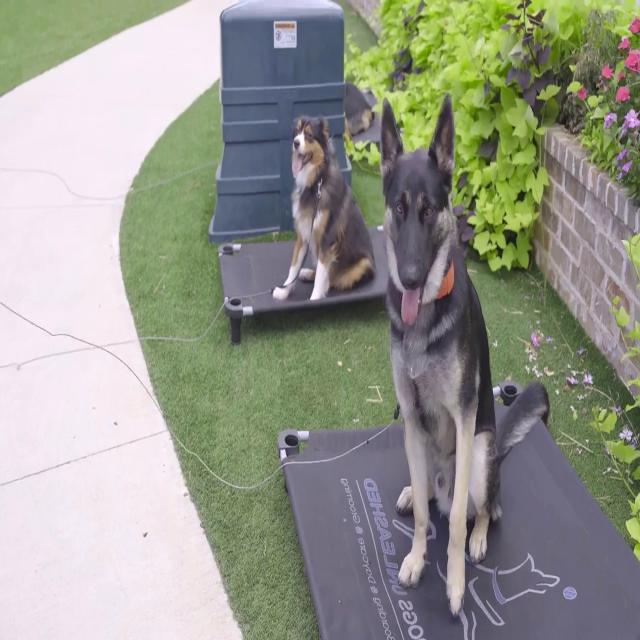Dog: (382, 92, 550, 615), (272, 117, 376, 301)
